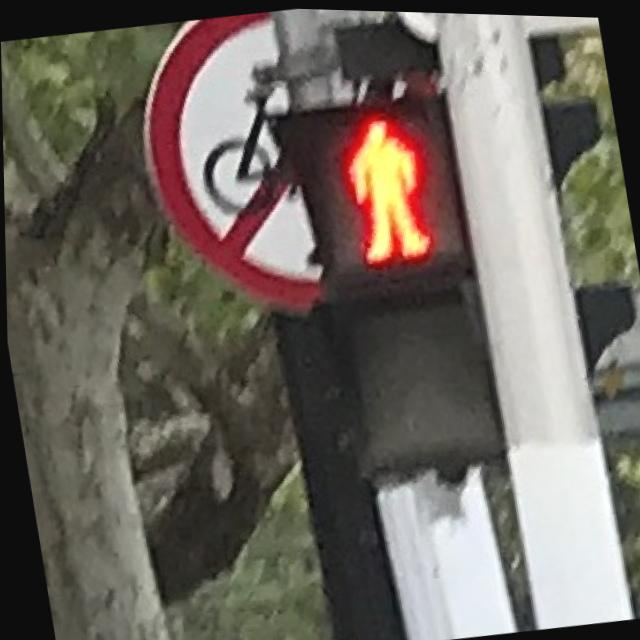red_light: (336, 103, 441, 267)
